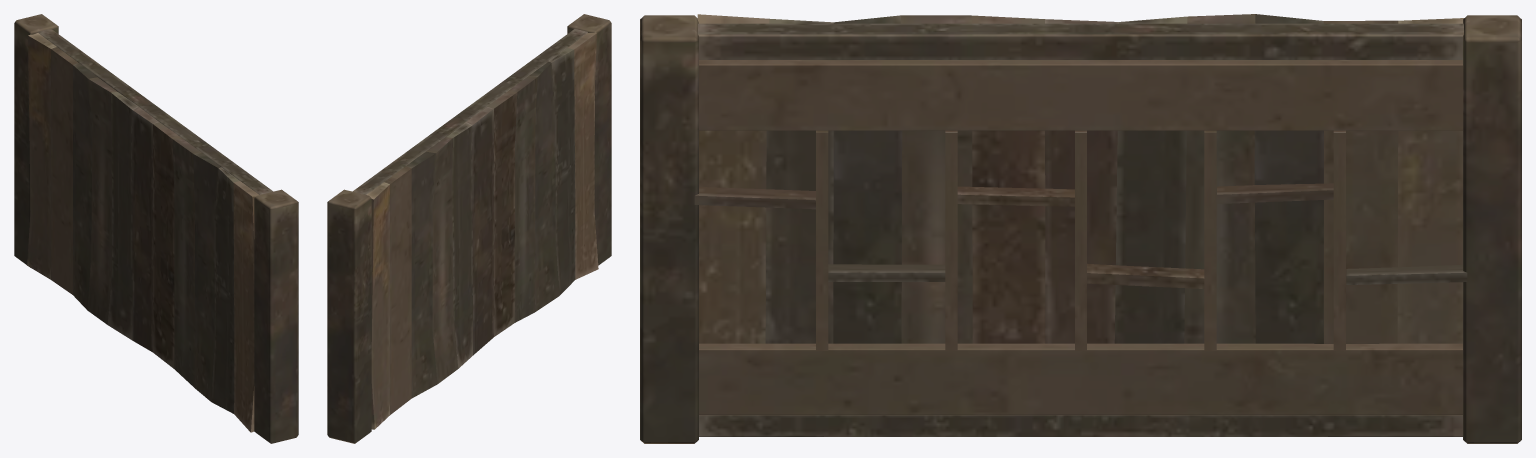
File: wall.half.frontier_variant_a.glb
3 views of the same model, side by side, from view 1: azimuth 30°, elevation 25°; view 2: azimuth 150°, elevation 25°; view 3: azimuth 270°, elevation 25° (orthographic). The views are drawn at different scales.
Visible parts, largest first — view 1: wall.half_a_LOD0; view 2: wall.half_a_LOD0; view 3: wall.half_a_LOD0.
Part boxes in pixels (x1=…): wall.half_a_LOD0: x1=14, y1=14, x2=298, y2=443; wall.half_a_LOD0: x1=327, y1=14, x2=611, y2=443; wall.half_a_LOD0: x1=640, y1=14, x2=1521, y2=443.
Bounding box in the file's own units: 0.2271 × 1.53 × 3.
1 material, 1 textured.
